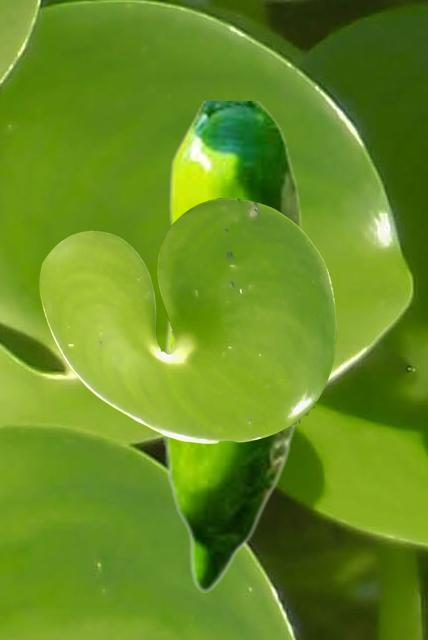green_chili: (161, 101, 305, 591)
